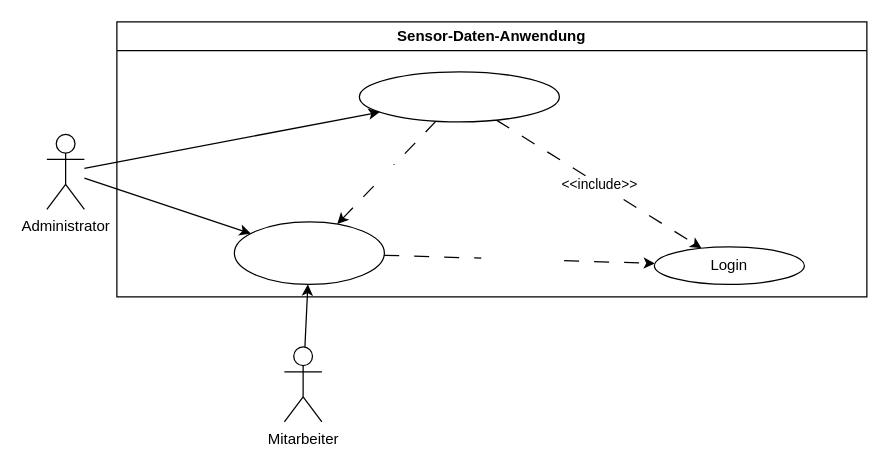
Image size: 889x470. Some labels were removed from this diagram. Each missing label, with the centre of its shape:
"Sensordaten auslesen" goes at (x=308, y=252).
"Sensordaten exportieren" goes at (x=458, y=96).
